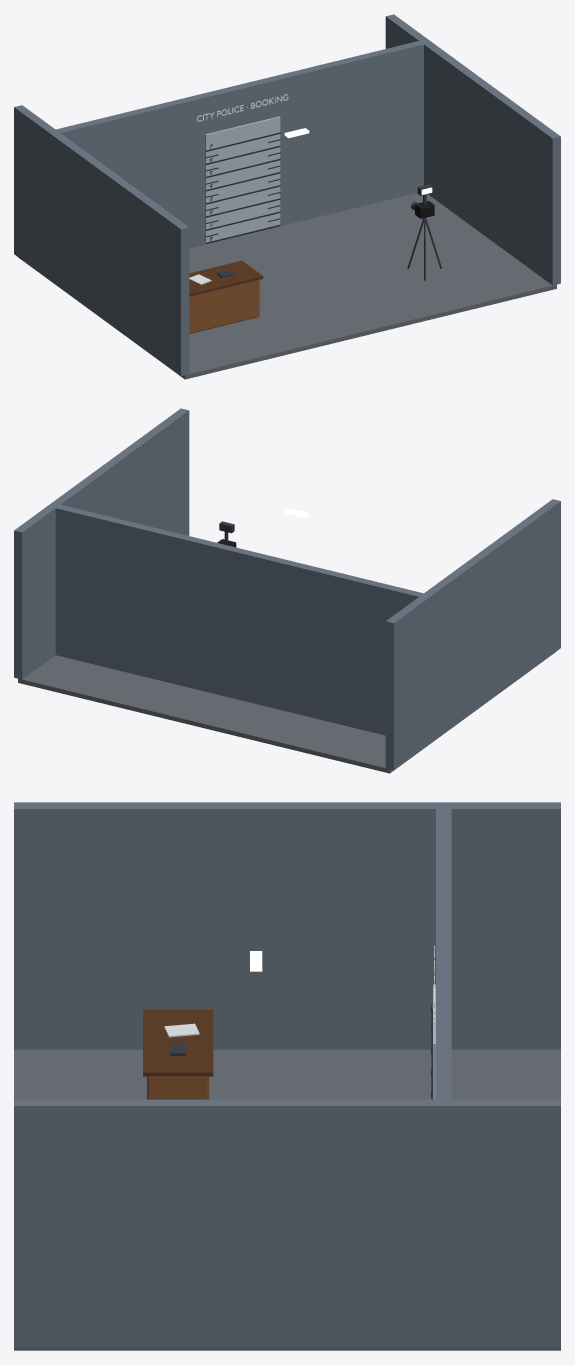
File: law_booking.glb
The picture shows the model from 3 angles, top to bottom: view 1: azimuth 30°, elevation 25°; view 2: azimuth 150°, elevation 25°; view 3: azimuth 270°, elevation 25°; orthographic projection. The views are drawn at different scales.
Parts seen in each view (by area): view 1: LawBooking_body; view 2: LawBooking_body; view 3: LawBooking_body.
Part boxes in pixels (<box>): LawBooking_body: <box>14,14,560,379</box>; LawBooking_body: <box>14,408,560,773</box>; LawBooking_body: <box>14,802,560,1350</box>.
Bounding box in the file's own units: 9.2 × 3.5 × 7.
